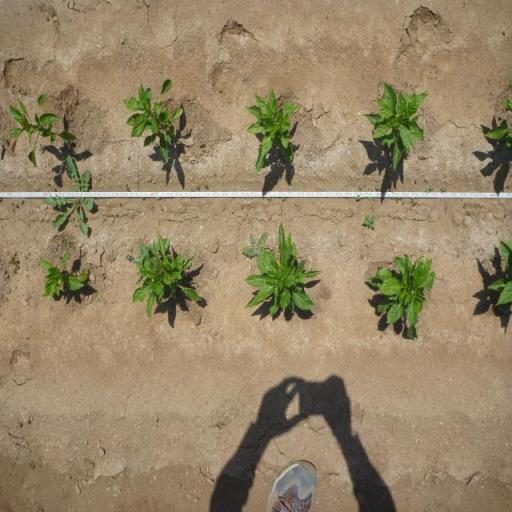plant: (364, 252, 436, 340), (361, 81, 429, 172), (132, 232, 201, 318), (121, 78, 185, 164), (257, 242, 322, 321), (4, 91, 77, 160), (244, 88, 299, 174), (38, 251, 90, 299), (485, 237, 512, 305), (481, 97, 512, 152)
weed: (44, 160, 94, 236), (239, 229, 268, 257), (9, 252, 20, 274), (362, 214, 376, 230), (13, 197, 23, 208), (411, 196, 418, 207), (125, 253, 133, 261), (392, 197, 402, 203), (426, 186, 434, 192), (462, 202, 468, 209), (66, 240, 71, 248), (356, 194, 362, 200), (199, 140, 204, 147), (441, 187, 447, 192), (375, 186, 379, 192), (390, 188, 394, 192)
